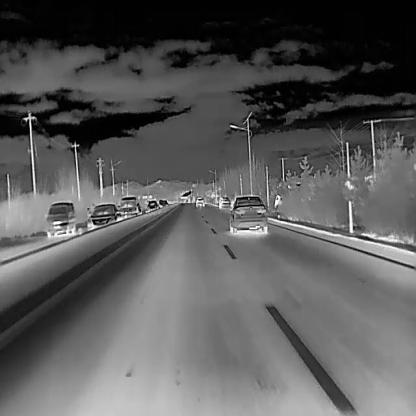car: (229, 195, 267, 234), (45, 200, 75, 239), (86, 203, 122, 232), (116, 194, 141, 219), (218, 195, 230, 208), (146, 199, 158, 212), (274, 192, 282, 210), (158, 198, 168, 209), (196, 195, 204, 207)
